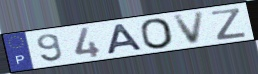4: (73, 25, 103, 60)
9: (35, 33, 65, 63)
A: (105, 22, 146, 56)
O: (138, 17, 176, 51)
V: (172, 10, 208, 46)
Z: (210, 7, 248, 42)
